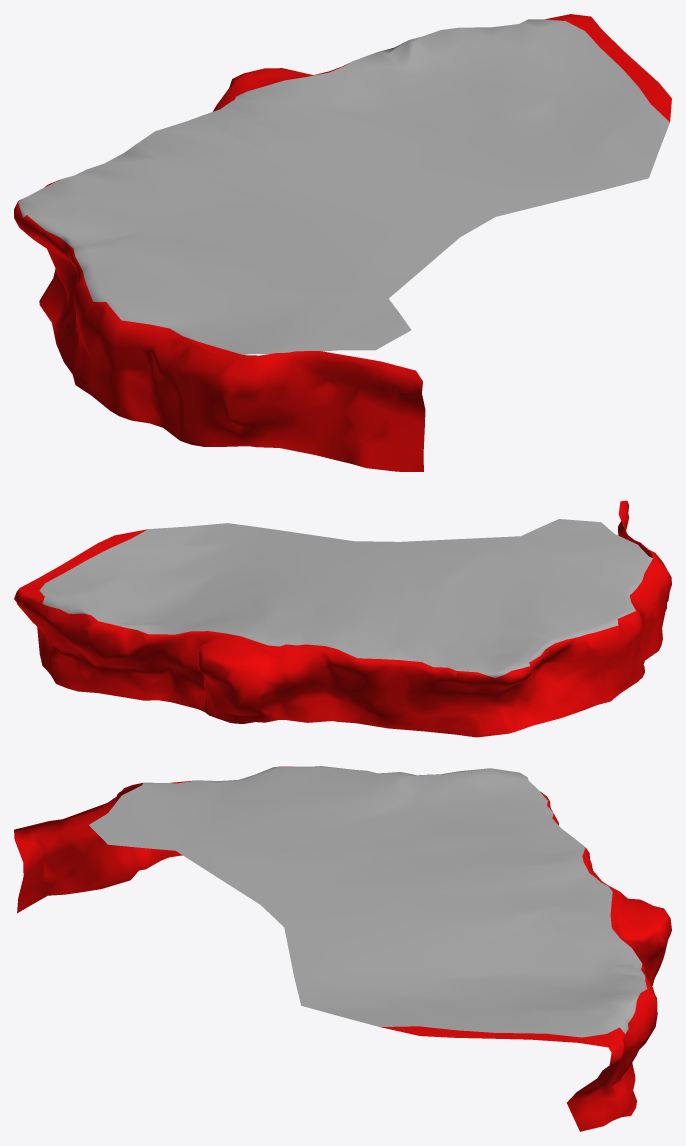
File: Cliff_2_Beach_Low.fbx
3 renders of one model, top to bottom at view 1: azimuth 30°, elevation 25°; view 2: azimuth 150°, elevation 25°; view 3: azimuth 270°, elevation 25°, orthographic. The views are drawn at different scales.
Visible parts, largest first — view 1: Cliff_2_Beach_Low; view 2: Cliff_2_Beach_Low; view 3: Cliff_2_Beach_Low.
Part boxes in pixels (x1,y1,x2,y2): Cliff_2_Beach_Low: (14,14,671,471); Cliff_2_Beach_Low: (14,500,671,737); Cliff_2_Beach_Low: (14,766,671,1131).
Bounding box in the file's own units: 2271 × 371 × 2127.
